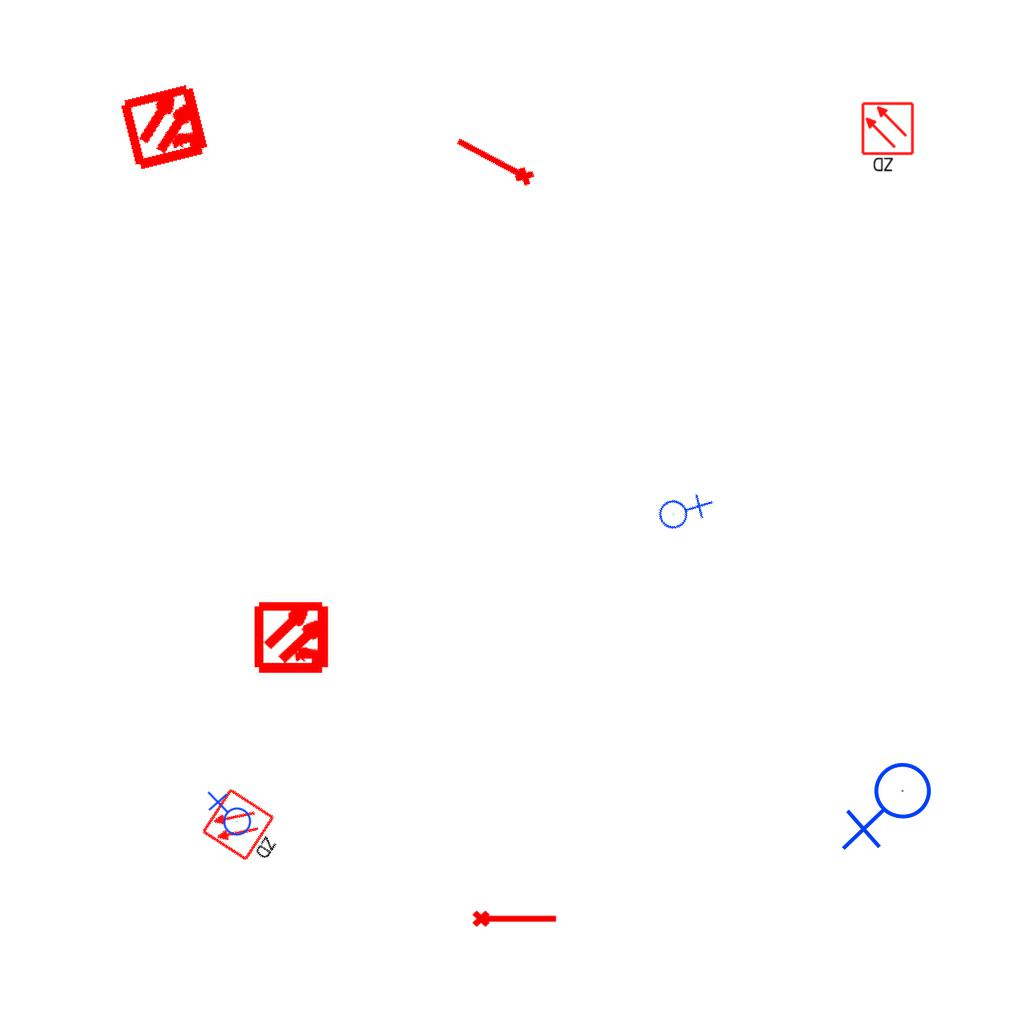ASR_Ansaugoeffnung: (449, 130, 539, 193), (471, 906, 559, 929)
Elektroanschluss_allgemein_230V_Geraeteanschlussdose_230V: (841, 761, 940, 855), (650, 477, 715, 542), (205, 791, 252, 840)
OT_Multisensormelder_(Kombination_RMO_WMD): (98, 58, 235, 195), (237, 581, 350, 694)
ZD_Melder_in_Zwischendecke_mit_Revisionsoeffnung_mind_40_x_40_cm: (199, 784, 294, 874), (860, 101, 917, 175)
